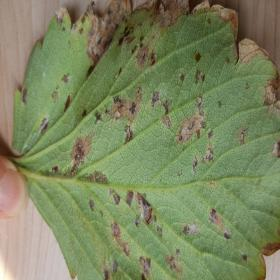Angular Leafspot: (11, 0, 279, 279)
